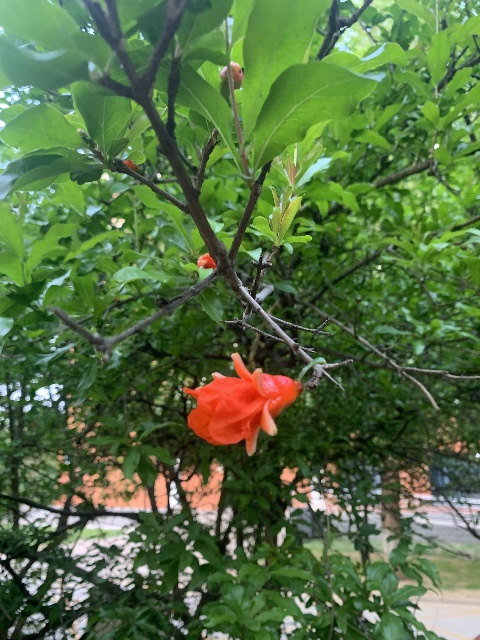bud: (219, 60, 243, 101)
flower: (182, 352, 302, 456), (196, 253, 215, 269)
